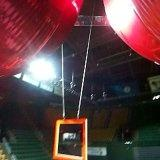Orange_Square_GShape: (54, 119, 86, 160)
